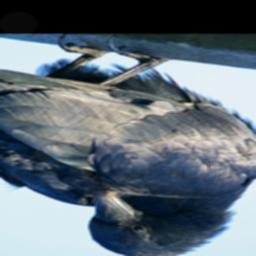Crow: (0, 35, 256, 256)
